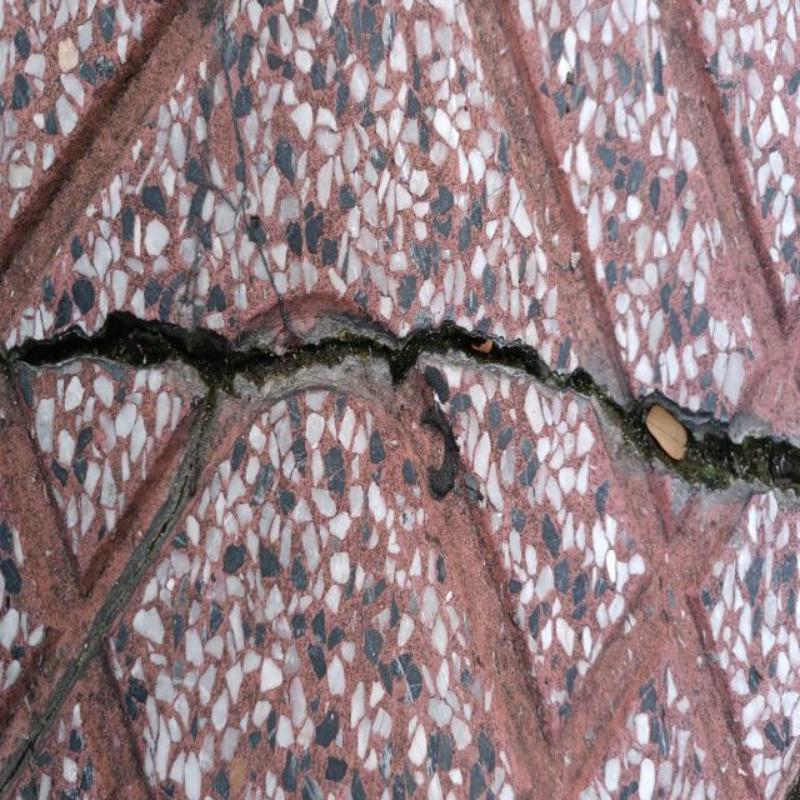pothole: (12, 310, 799, 492)
